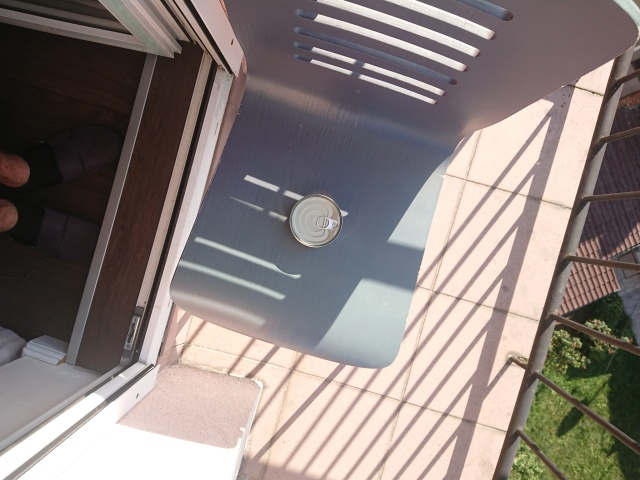Giana Tuna Salad Mexico 185g: (285, 190, 345, 250)
